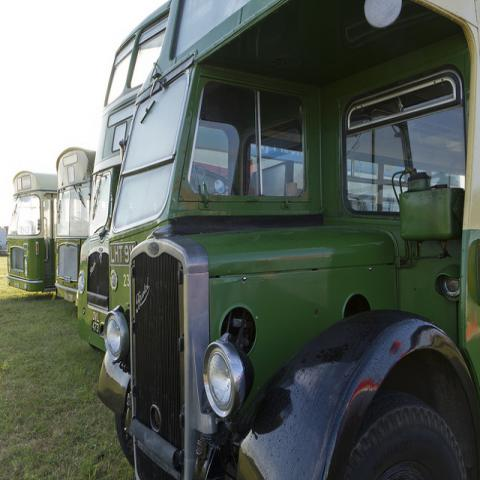bus: (95, 2, 479, 477), (78, 12, 169, 353), (53, 149, 98, 305), (6, 170, 57, 294)
